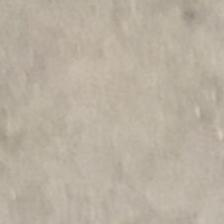Non_Crack: (32, 25, 224, 170)
